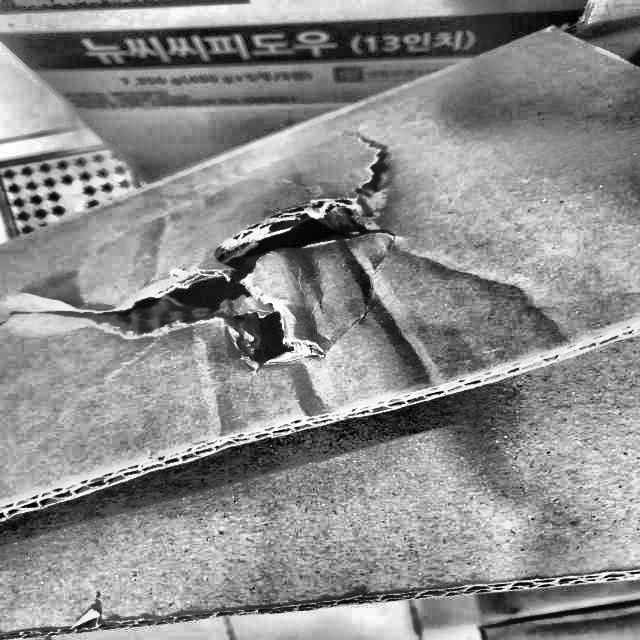box: (0, 45, 640, 628)
hole: (103, 193, 349, 401)
